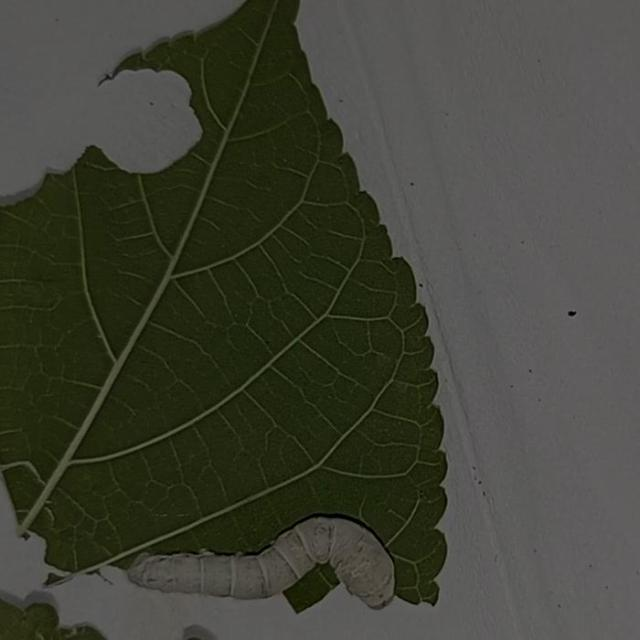Healthy: (110, 486, 440, 640)
